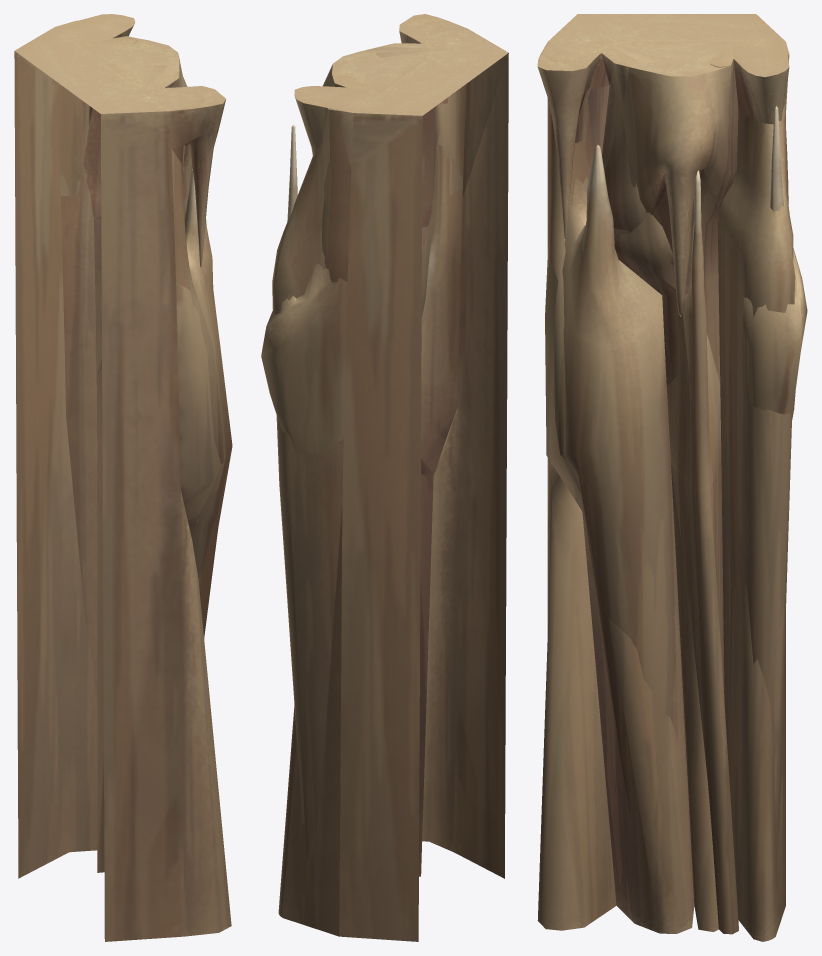
The model's file is cave_wall.gltf.
3 views of the same model, side by side, from view 1: azimuth 30°, elevation 25°; view 2: azimuth 150°, elevation 25°; view 3: azimuth 270°, elevation 25° (orthographic). The views are drawn at different scales.
Parts seen in each view (by area): view 1: 1, 3, 2, 4; view 2: 1, 3, 2, 4; view 3: 1, 3, 2, 4.
Boxes of the visible parts, x1=… form: 1: x1=14, y1=20, x2=231, y2=941; 3: x1=55, y1=14, x2=232, y2=872; 2: x1=57, y1=22, x2=225, y2=872; 4: x1=97, y1=91, x2=204, y2=373; 1: x1=272, y1=14, x2=508, y2=941; 3: x1=278, y1=26, x2=467, y2=936; 2: x1=261, y1=46, x2=508, y2=474; 4: x1=273, y1=21, x2=462, y2=403; 1: x1=537, y1=14, x2=795, y2=934; 3: x1=545, y1=41, x2=789, y2=941; 2: x1=547, y1=41, x2=807, y2=933; 4: x1=541, y1=53, x2=796, y2=297.
Size of the model in its own units: 3.65 by 19.85 by 5.67.
1 material, 1 textured.
